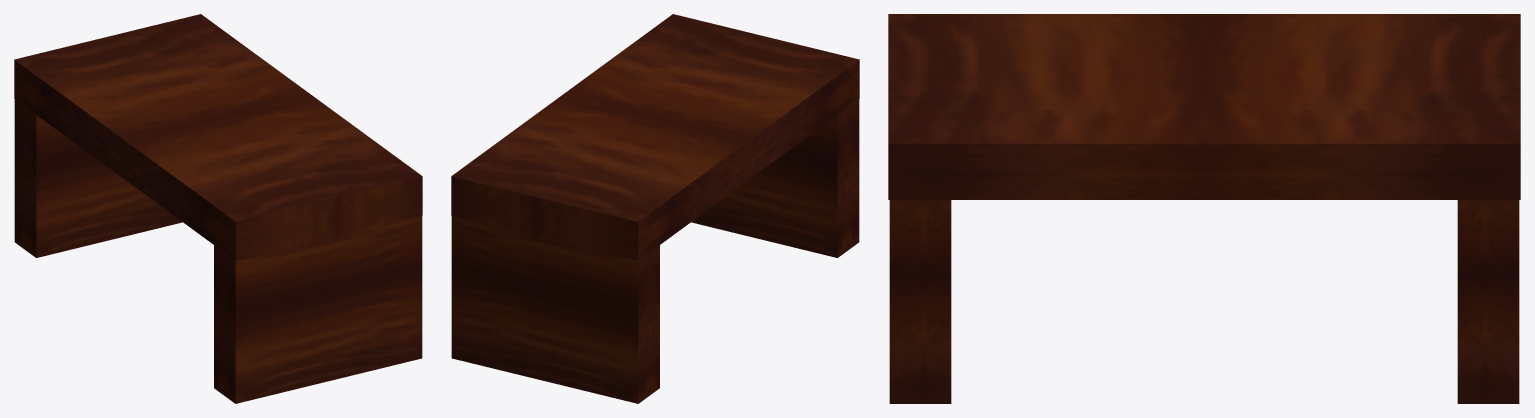
File: desk.glb
3 views of the same model, side by side, from view 1: azimuth 30°, elevation 25°; view 2: azimuth 150°, elevation 25°; view 3: azimuth 270°, elevation 25° (orthographic). The views are drawn at different scales.
Parts seen in each view (by area): view 1: Desk-col; view 2: Desk-col; view 3: Desk-col.
Boxes of the visible parts, left/top/right/bottom form: Desk-col: left=14, top=14, right=422, bottom=403; Desk-col: left=451, top=14, right=859, bottom=403; Desk-col: left=888, top=14, right=1520, bottom=403.
Size of the model in its own units: 1.41 by 1.32 by 2.9.
1 material, 1 textured.
